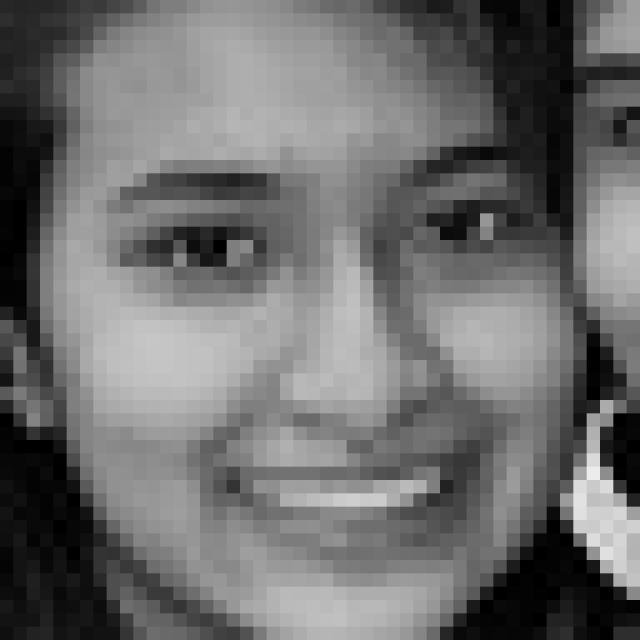happy: (92, 158, 547, 555)
